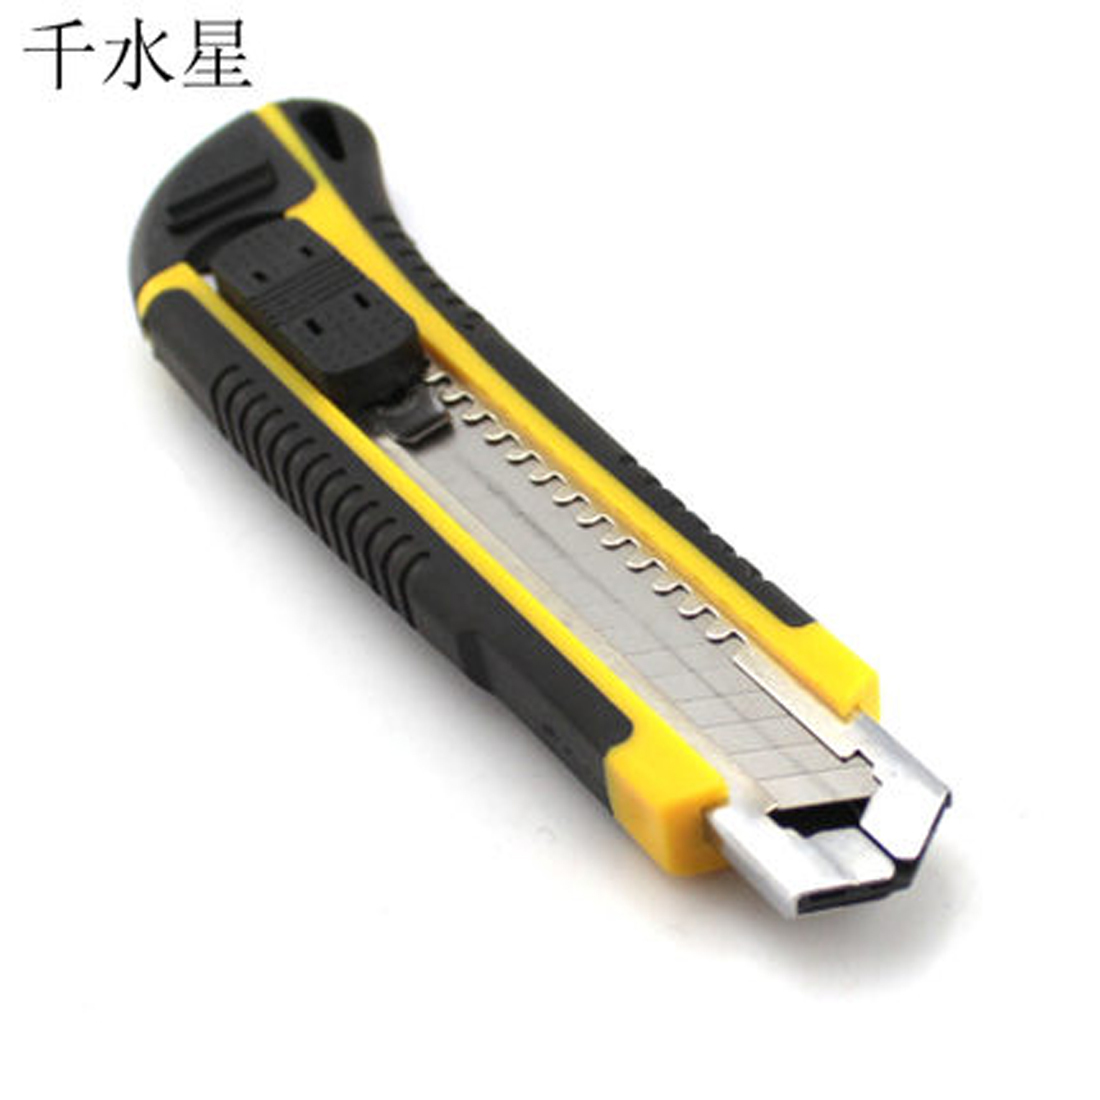cutter: (123, 98, 958, 918)
